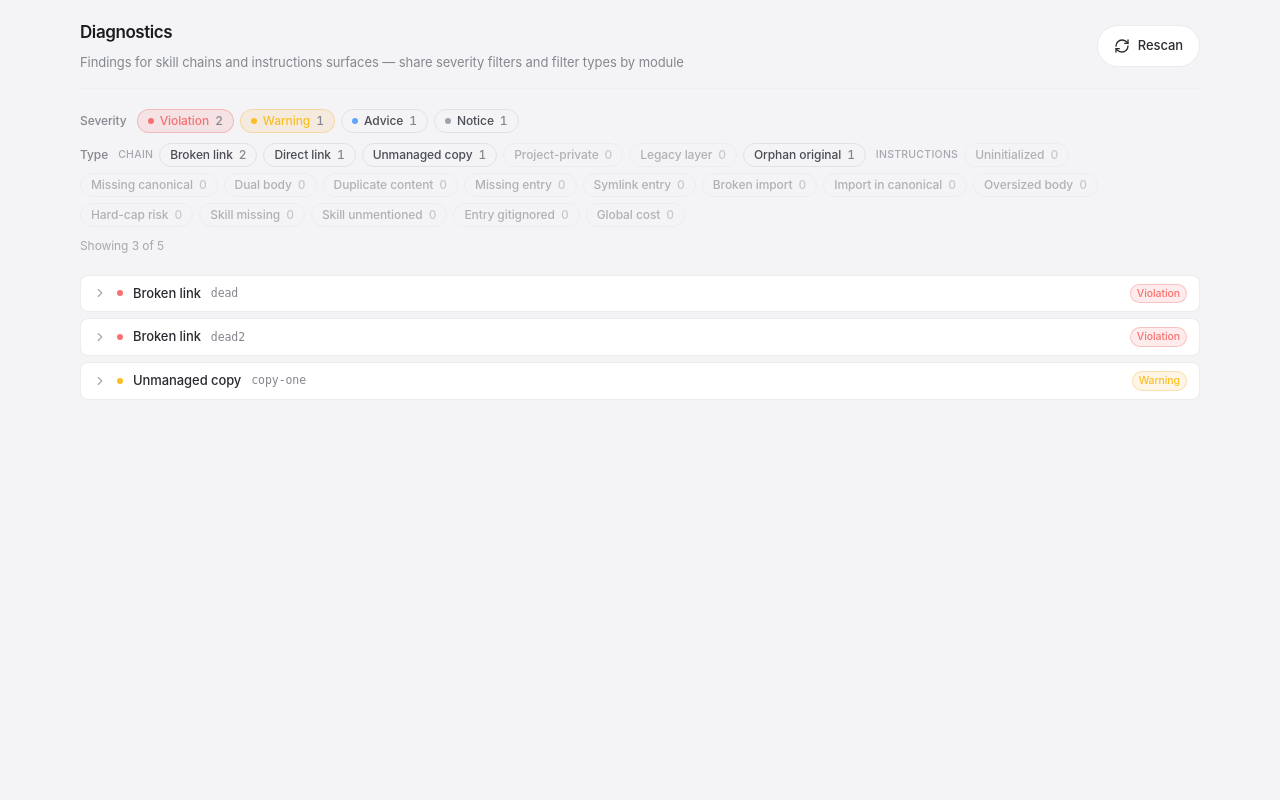
ChainDoctor › reveals the same chain evidence when a finding is opened
Click the button with test id "sev-violation" at (185, 120), box [137,108,234,132]
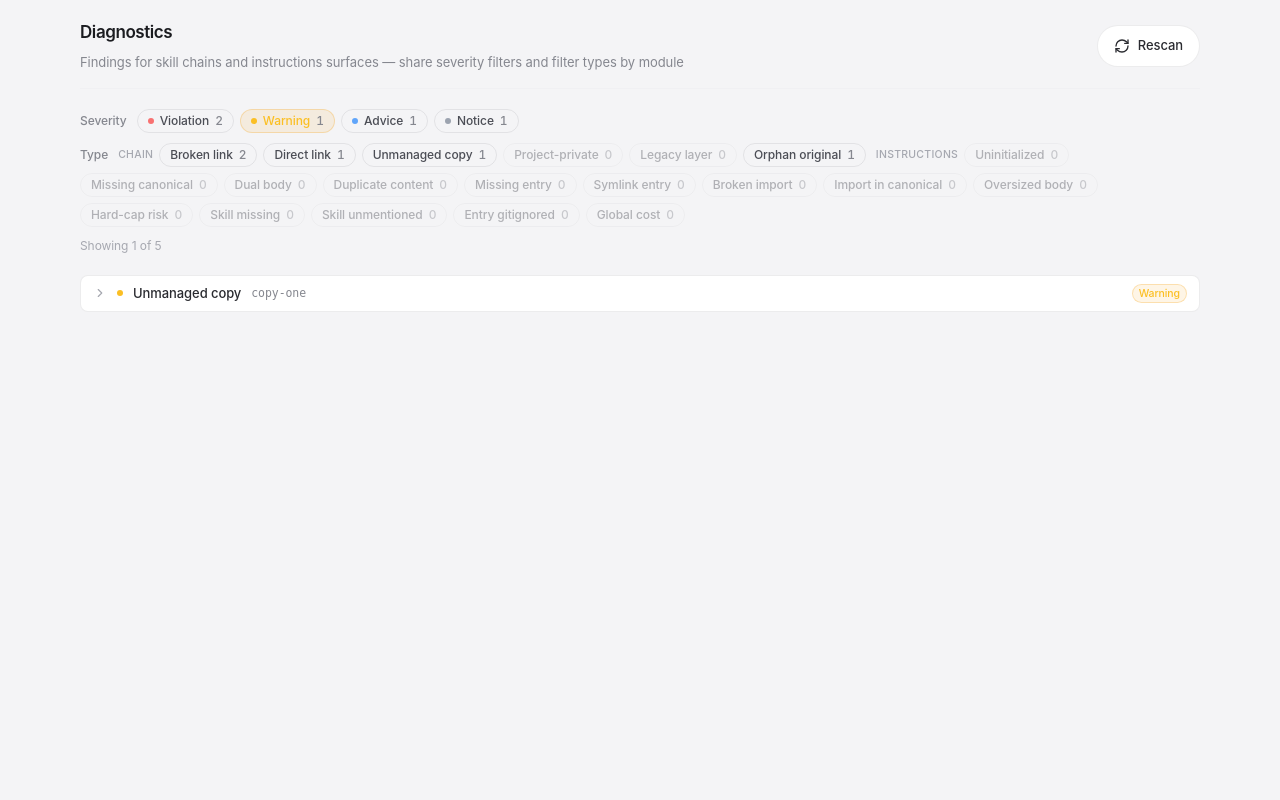
Click the button with test id "sev-warning" at (287, 120), box [240,108,335,132]
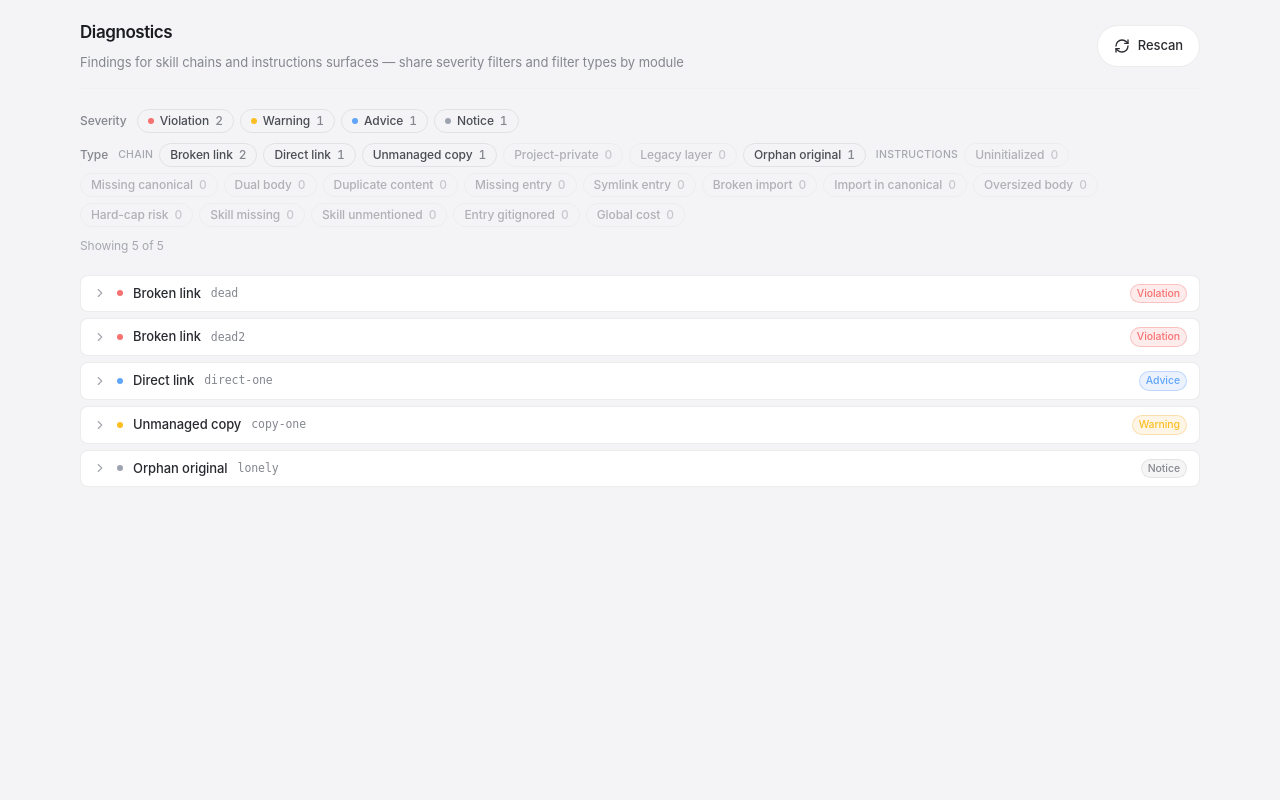
expect the element with test id "finding" showing "Direct link direct-one Advice" is shown: met
Click the button "Direct link direct-one Advice" at (164, 380), box [81,363,1199,399]
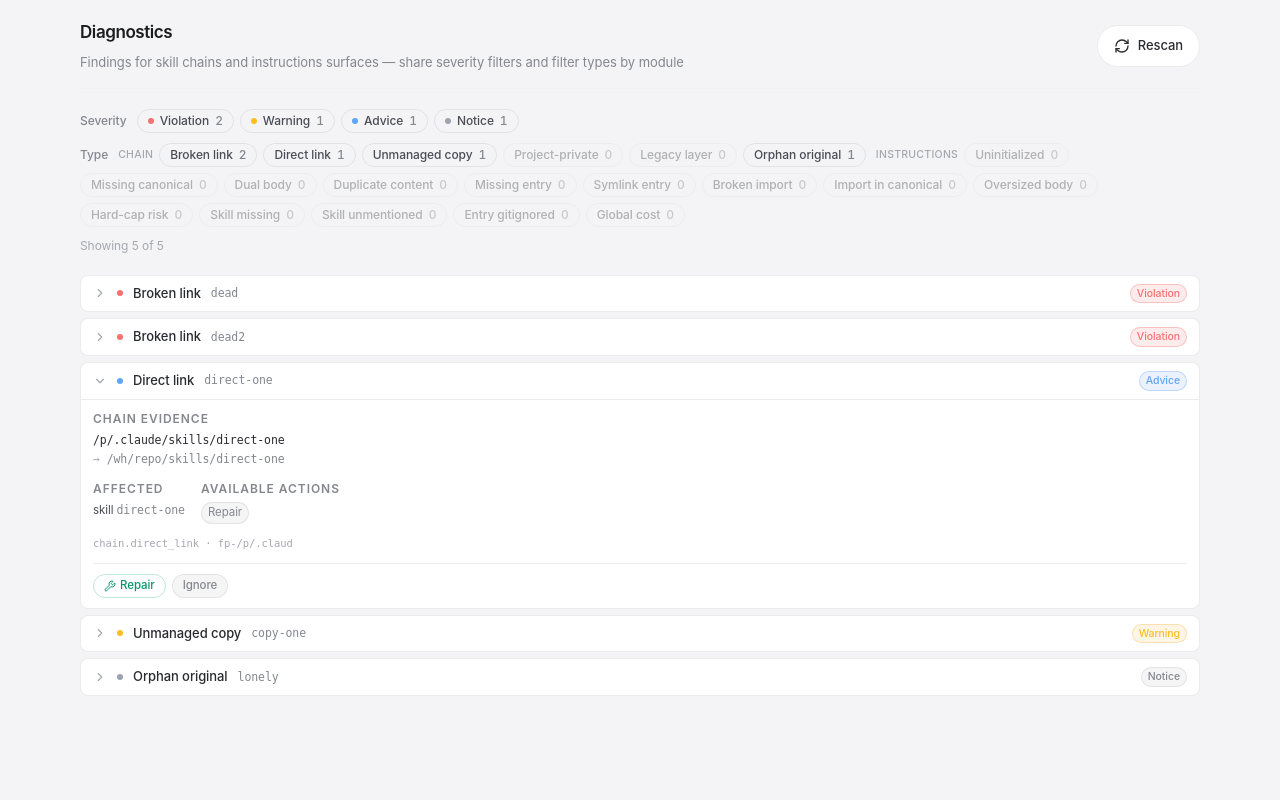
expect the element with test id "evidence" shows "/wh/repo/skills/direct-one": met, box [107,452,285,466]
expect the element with test id "evidence" shows "chain.direct_link": met, box [93,536,199,548]
